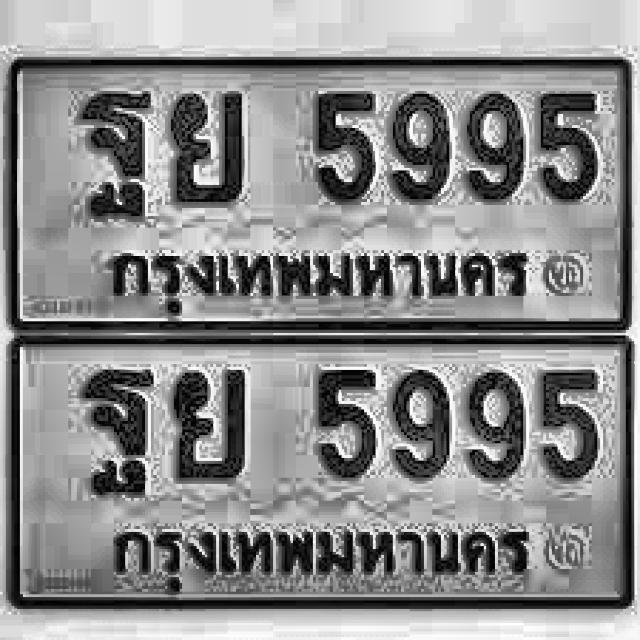license-plate: (12, 332, 638, 609), (10, 56, 633, 334)
